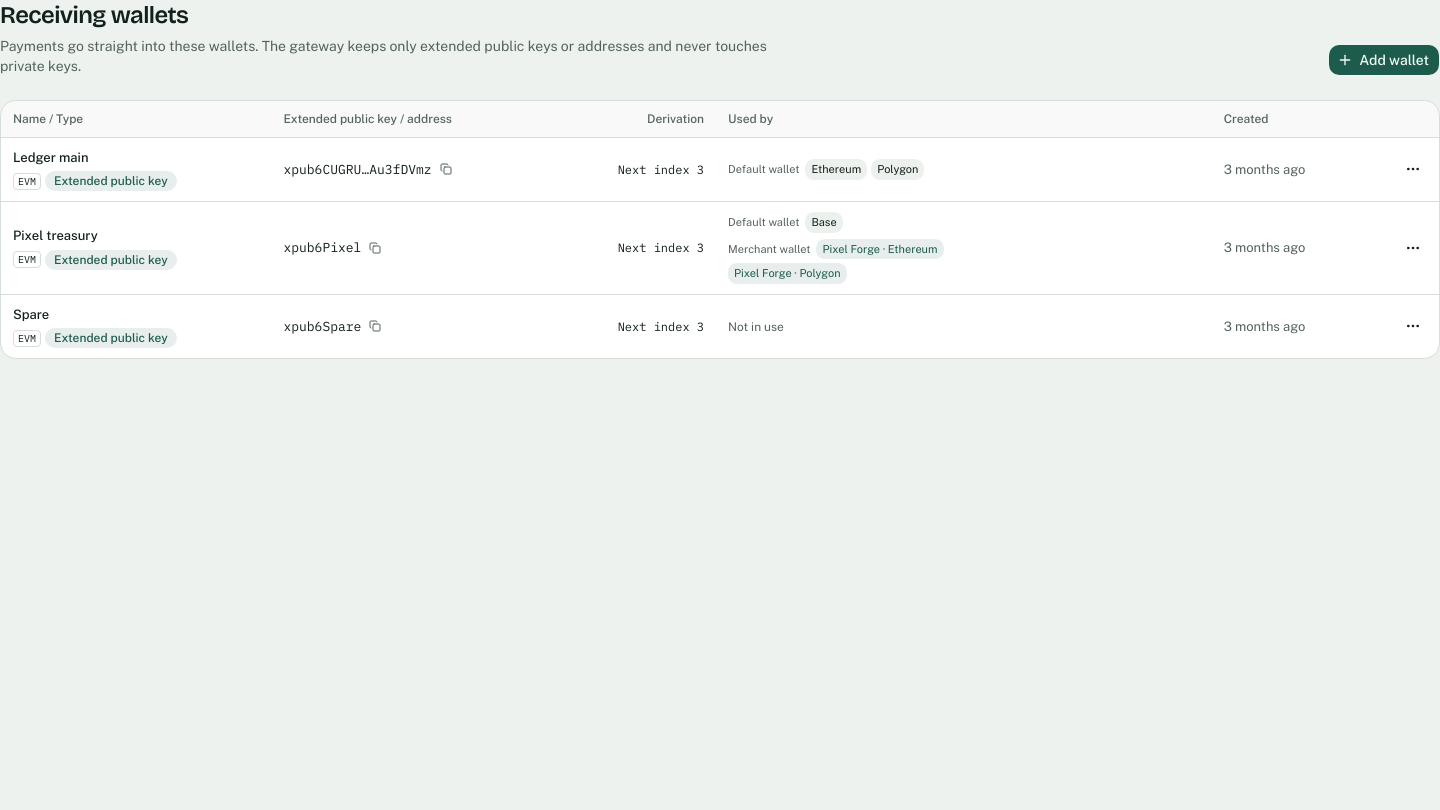
WalletsPage › explains which merchants block deleting a wallet
The image size is (1440, 810).
Click the button named "More actions: Pixel treasury" at (1413, 248), box [1399, 234, 1427, 262]
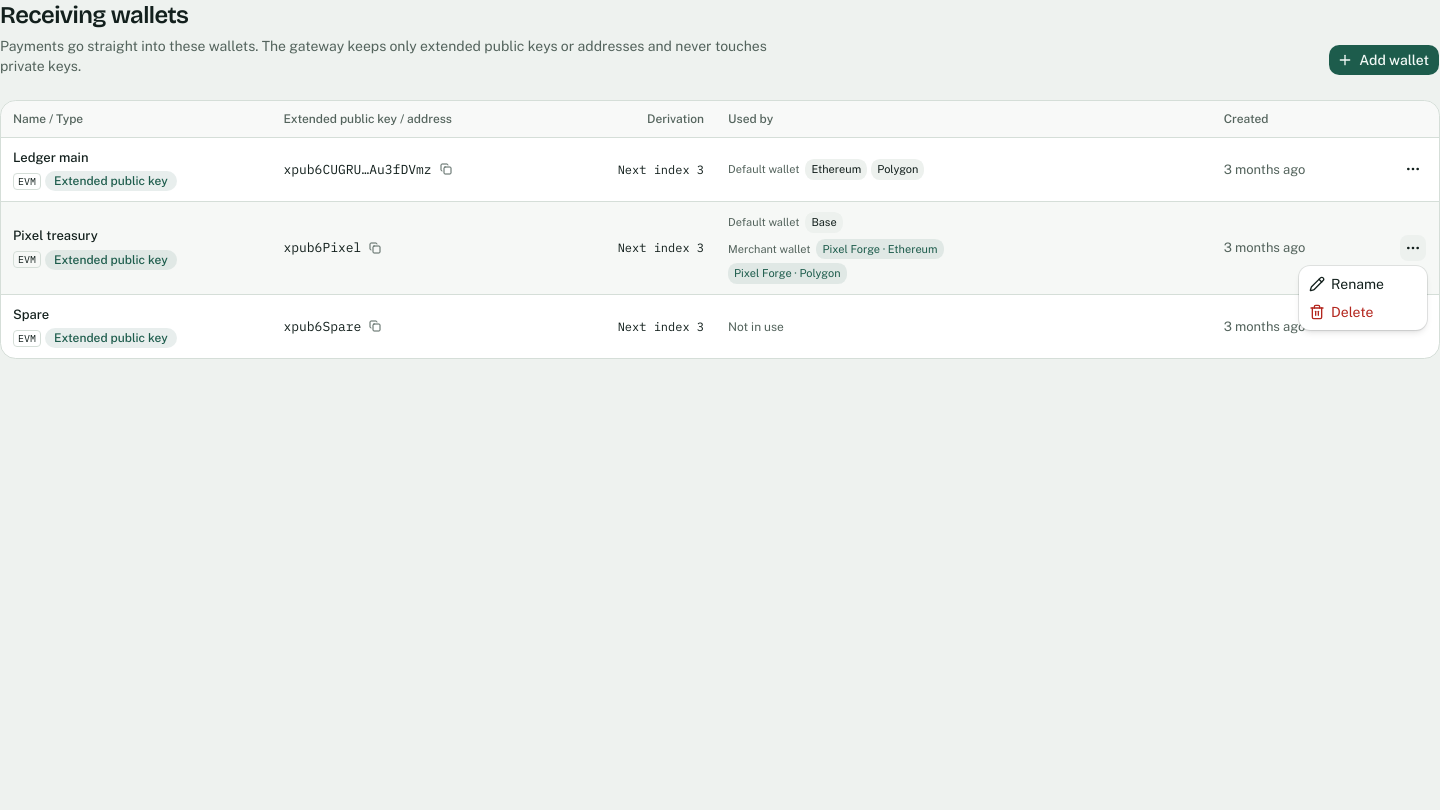
Click the menu item "Delete" at (1341, 312), box [1309, 304, 1373, 320]
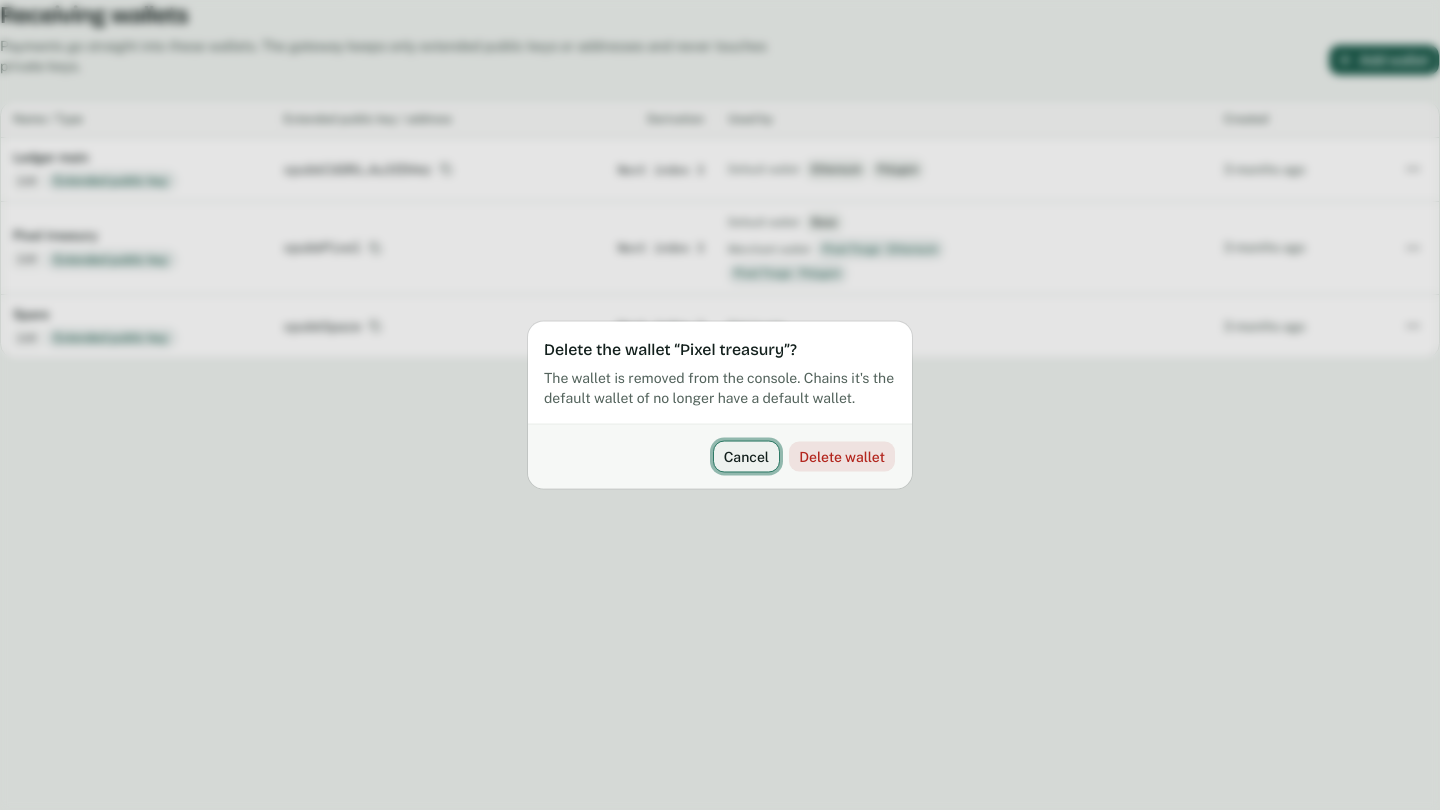
Click the button "Delete wallet" at (842, 456), box [788, 440, 896, 472]
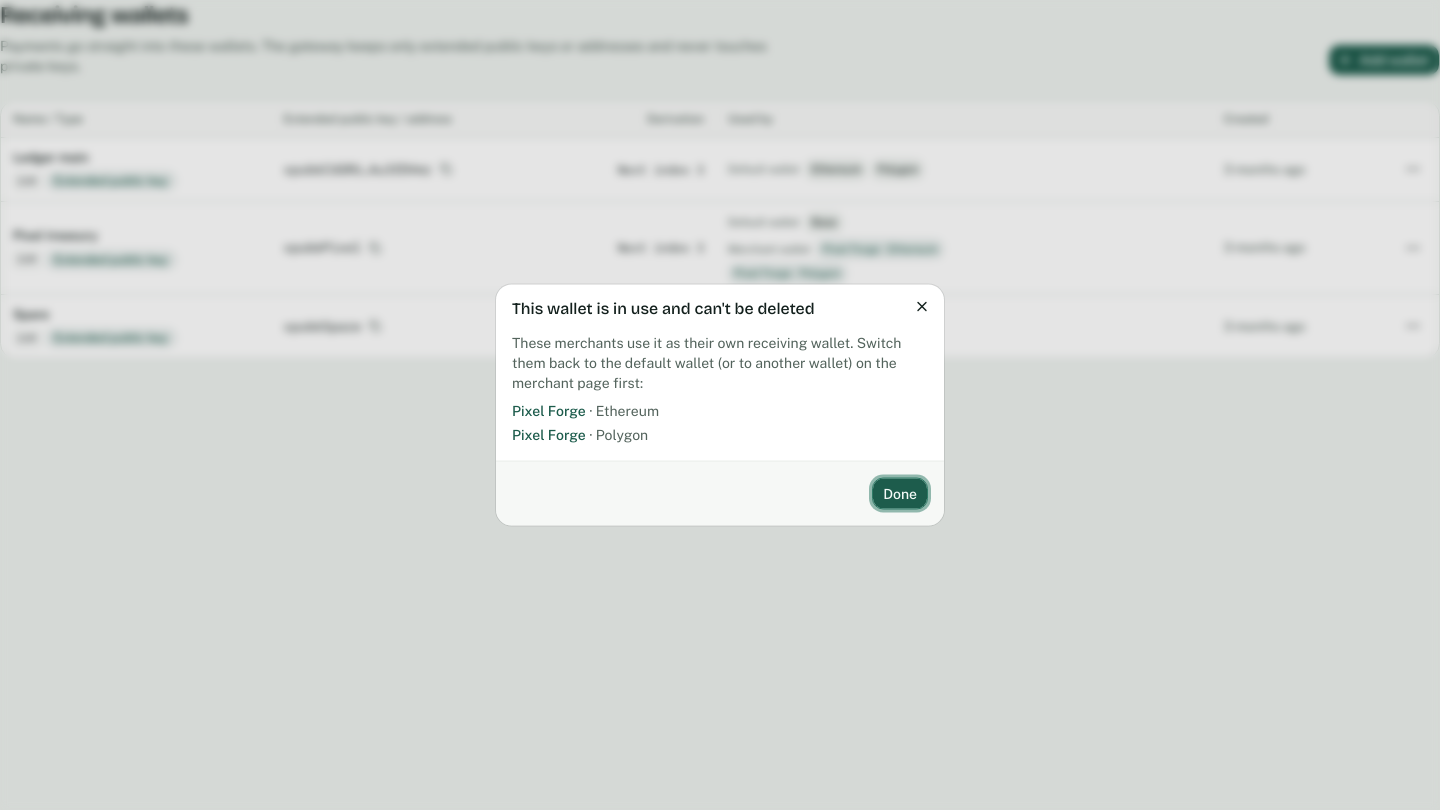
Check: the text "use it as their own receiving wallet" is shown, box [512, 334, 901, 390]
Check: the list items read "Pixel Forge · Ethereum", "Pixel Forge · Polygon", in this order, box [512, 402, 659, 418]; [512, 426, 648, 442]
